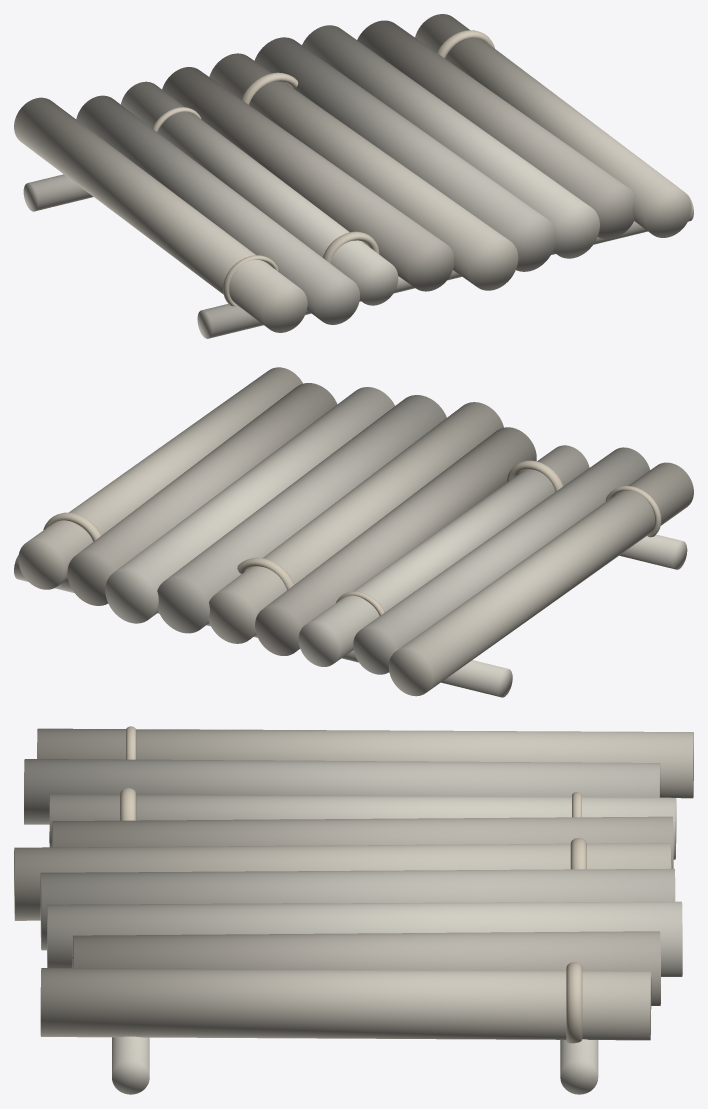
File: raft2.glb
The picture shows the model from 3 angles, top to bottom: view 1: azimuth 30°, elevation 25°; view 2: azimuth 150°, elevation 25°; view 3: azimuth 270°, elevation 25°; orthographic projection. The views are drawn at different scales.
Visible parts, largest first — view 1: part_0, part_3, part_4, part_5, part_1, part_6, part_7, part_2, part_8, part_10, part_9, part_15 (+3 smaller); view 2: part_0, part_5, part_3, part_4, part_6, part_1, part_7, part_2, part_8, part_9, part_10, part_15 (+3 smaller); view 3: part_8, part_1, part_7, part_6, part_0, part_5, part_4, part_3, part_2, part_10, part_9, part_13.
Part boxes in pixels (x1,y1,x2,y2): part_0: (14,97,307,332); part_3: (162,67,454,291); part_4: (209,53,518,290); part_5: (254,37,556,271); part_1: (76,95,359,324); part_6: (302,25,599,258); part_7: (357,20,635,239); part_2: (121,81,398,305); part_8: (415,14,691,237); part_10: (197,194,693,338); part_9: (23,174,93,211); part_15: (323,231,379,263); part_0: (388,462,693,696); part_5: (157,395,446,633); part_3: (255,427,536,655); part_4: (208,402,503,643); part_6: (105,387,394,623); part_1: (353,447,649,674); part_7: (67,383,337,605); part_2: (298,445,589,666); part_8: (18,367,302,589); part_9: (14,555,512,697); part_10: (619,534,687,569); part_15: (506,460,563,491); part_8: (40,968,651,1040); part_1: (24,759,660,824); part_7: (72,931,660,1005); part_6: (47,901,682,976); part_0: (37,728,693,798); part_5: (40,868,675,950); part_4: (14,843,671,920); part_3: (52,816,673,868); part_2: (49,793,676,859); part_10: (112,1036,149,1094); part_9: (560,1039,598,1094); part_13: (566,962,582,1043).
Size of the model in its own units: 2.65 by 0.4087 by 2.51.
